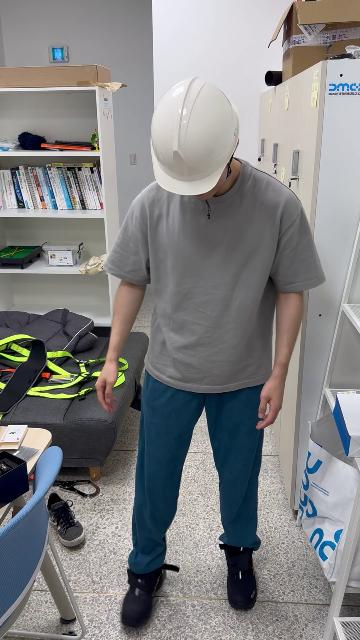helmet_worn: (148, 76, 241, 198)
shoe_not_worn: (45, 492, 85, 547)
shoe_worn: (121, 564, 166, 627), (221, 542, 258, 610)
vest_not_worn: (139, 180, 285, 391)
vest_worn: (1, 335, 129, 399)
